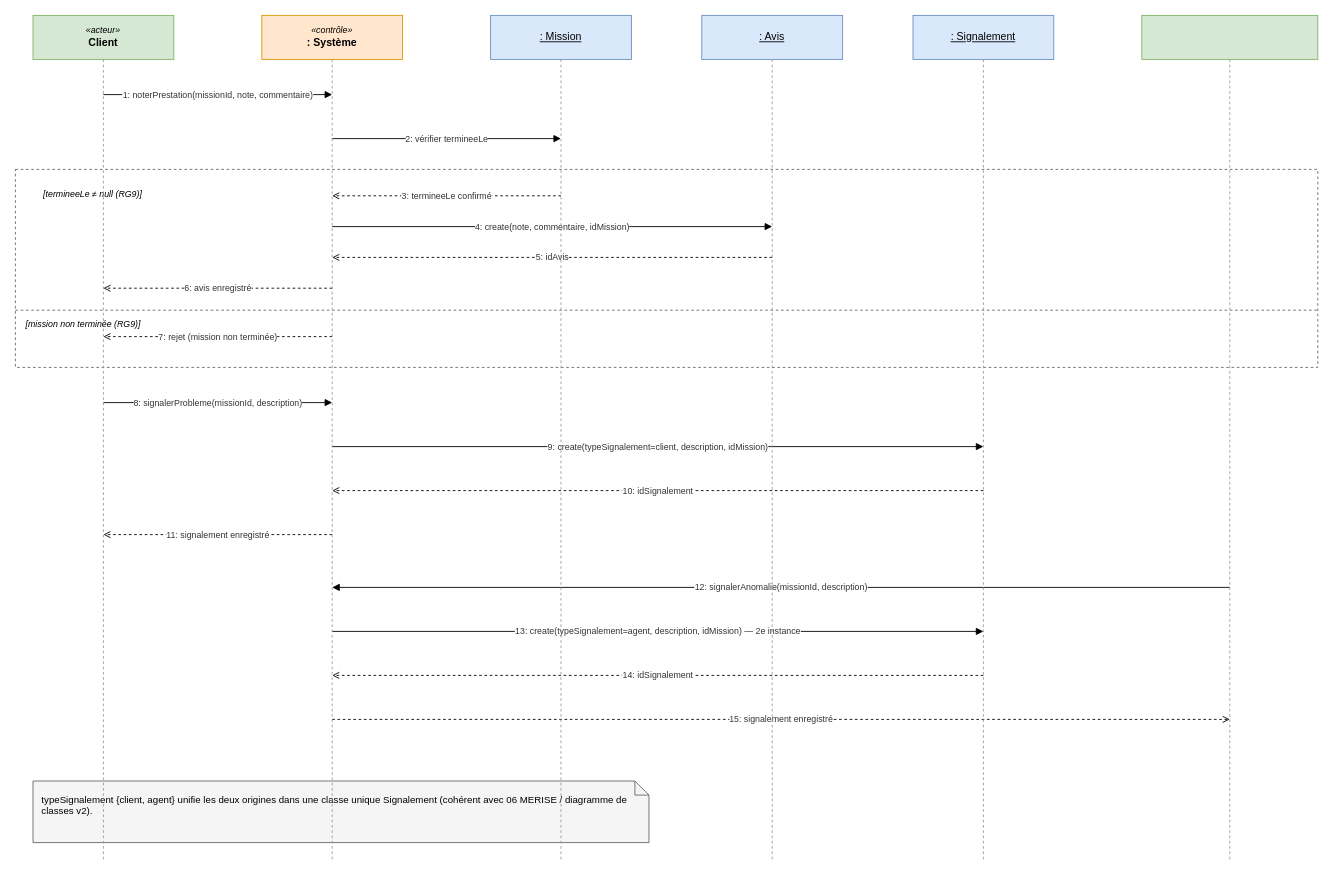
Some shapes in this 1334 by 876 pixel diagram are drawn without their labels. Each missing label, with the box of its shape:
alt: (15, 169, 1318, 367)
«acteur» Agent [role=agent_laveur]: (1141, 15, 1318, 59)
